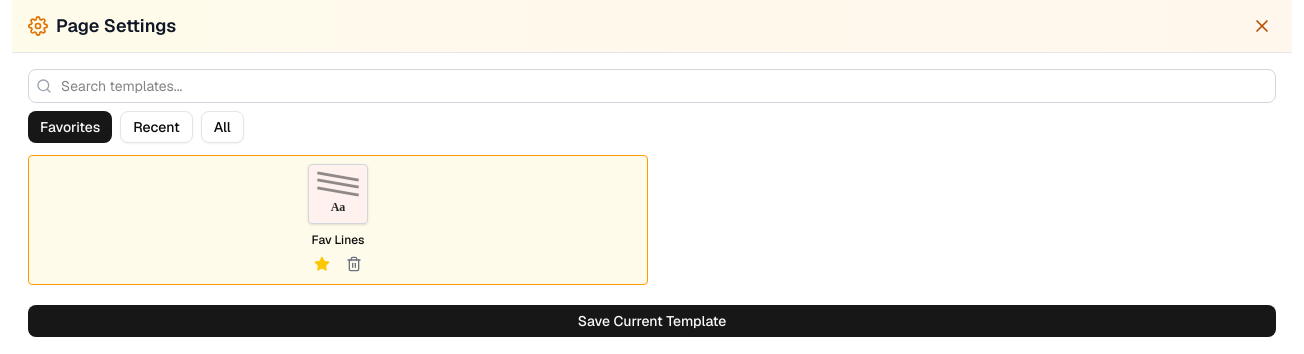
Test case: tab filtering defaults to Favorites; switching tabs and searching narrows results
This screenshot has width=1304, height=354.
Expected: the text "Fav Lines" is shown, [312,232,364,248]
Expected: the text "Ocean Dots" is not shown
Click the button "All" at (222, 127), box [201,111,244,143]
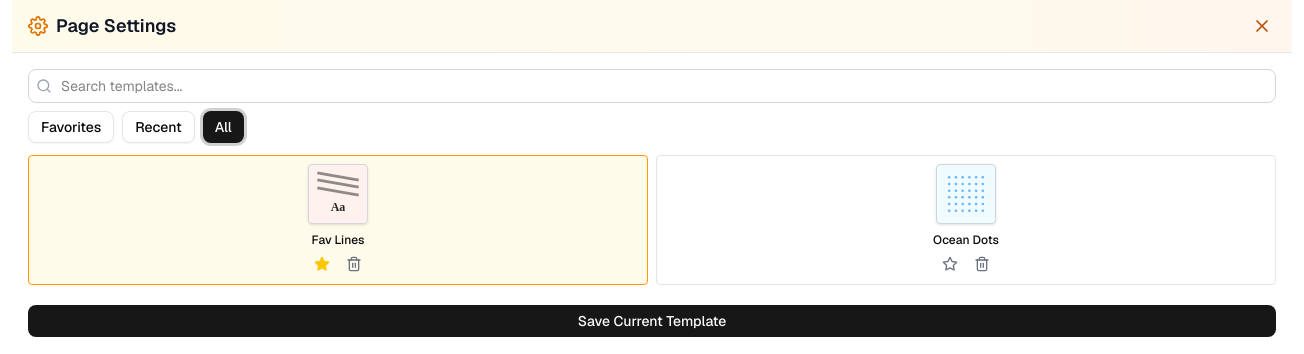
Expected: the text "Ocean Dots" is shown, [933,232,999,248]
Type "Ocean" into the field with placeholder "Search templates..." at (652, 86), box [28,69,1276,103]
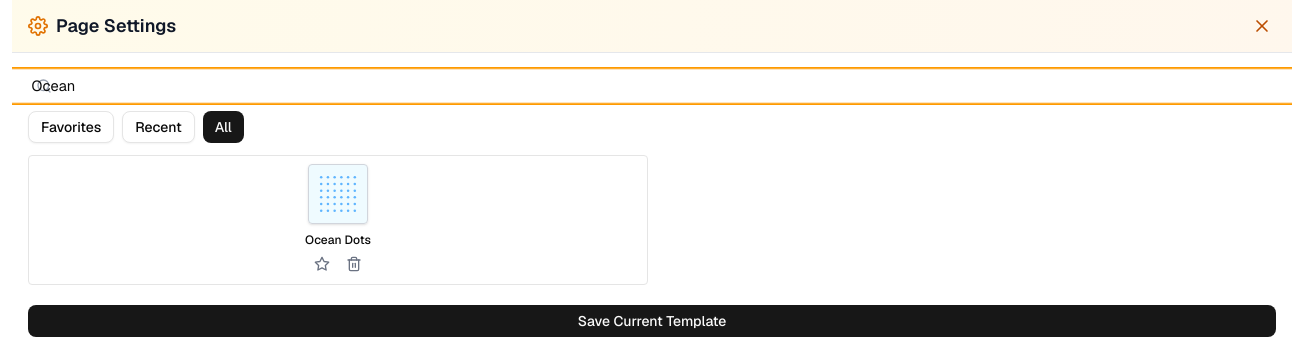
Expected: the text "Ocean Dots" is shown, [305,232,371,248]
Expected: the text "Fav Lines" is gone
